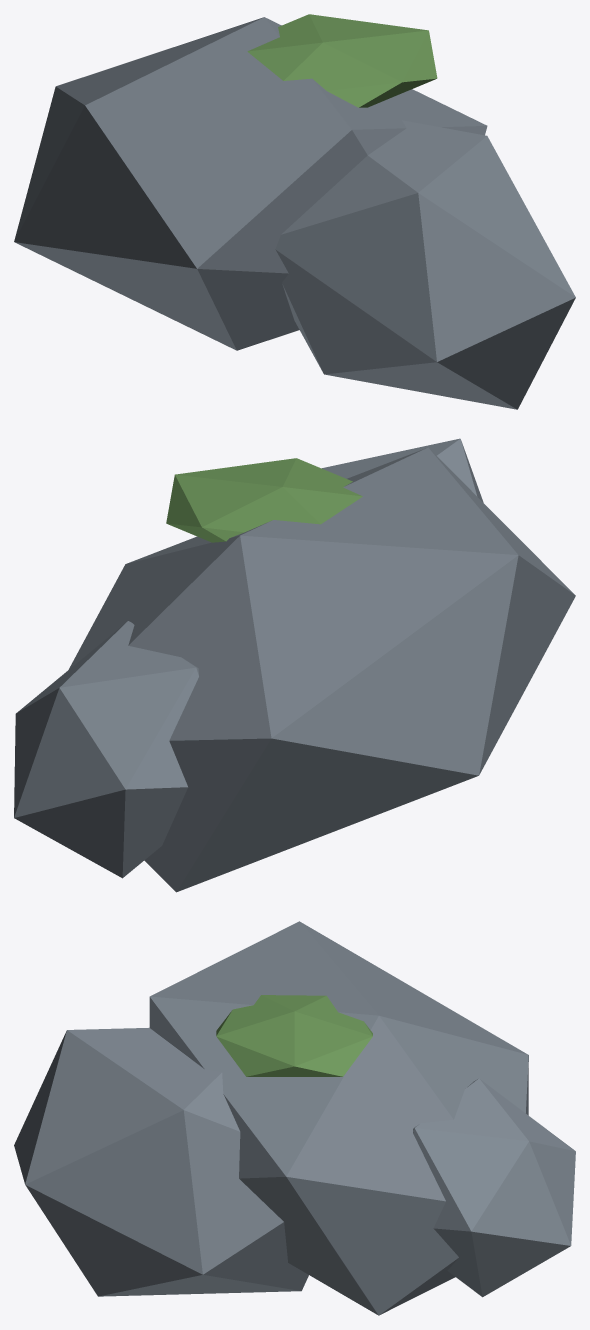
The model's file is river_rock_b.glb.
3 renders of one model, top to bottom at view 1: azimuth 30°, elevation 25°; view 2: azimuth 150°, elevation 25°; view 3: azimuth 270°, elevation 25°, orthographic. The views are drawn at different scales.
Visible parts, largest first — view 1: rock; view 2: rock; view 3: rock.
Part boxes in pixels (left/top/right/bottom): rock: left=14, top=14, right=575, bottom=409; rock: left=14, top=438, right=575, bottom=892; rock: left=14, top=921, right=575, bottom=1315.
Size of the model in its own units: 0.4619 by 0.3142 by 0.6321.
